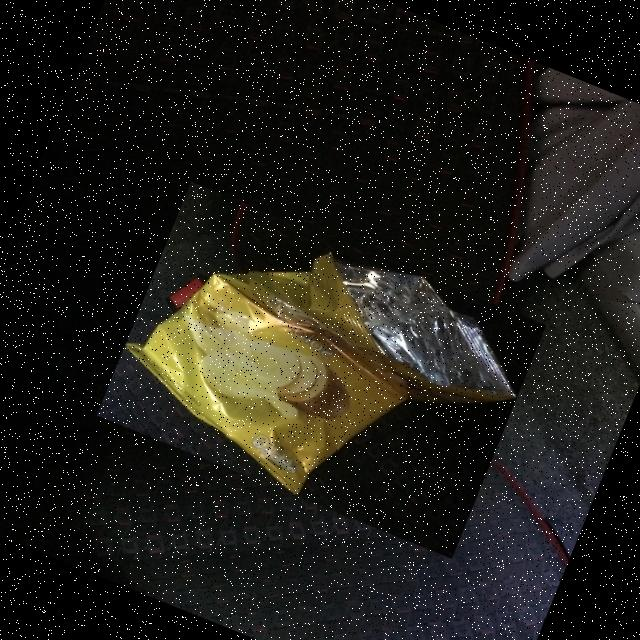Crisp packet: (126, 252, 517, 496)
